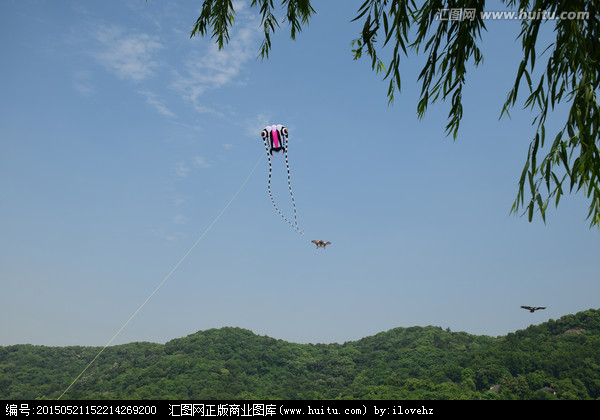kite: (257, 123, 302, 234), (310, 235, 331, 253), (519, 303, 547, 315)
